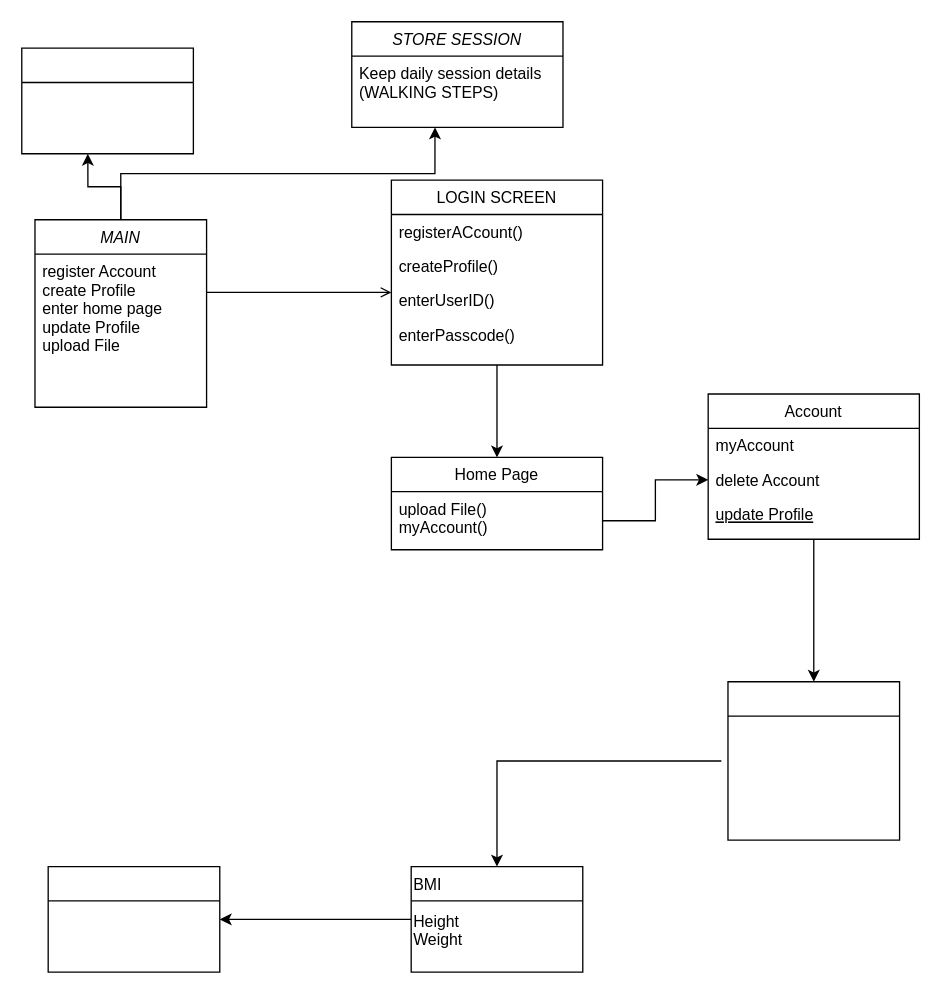
Image size: 941x994. Some labels were removed from this diagram. The centre of each missing label's shape, as x and y in pixels:
REGISTER Age Height Weight Gender: pixel 813 760
REMINDER Sleep Intake Water Intake: pixel 133 918
SECURITY OBJECT: pixel 106 100
